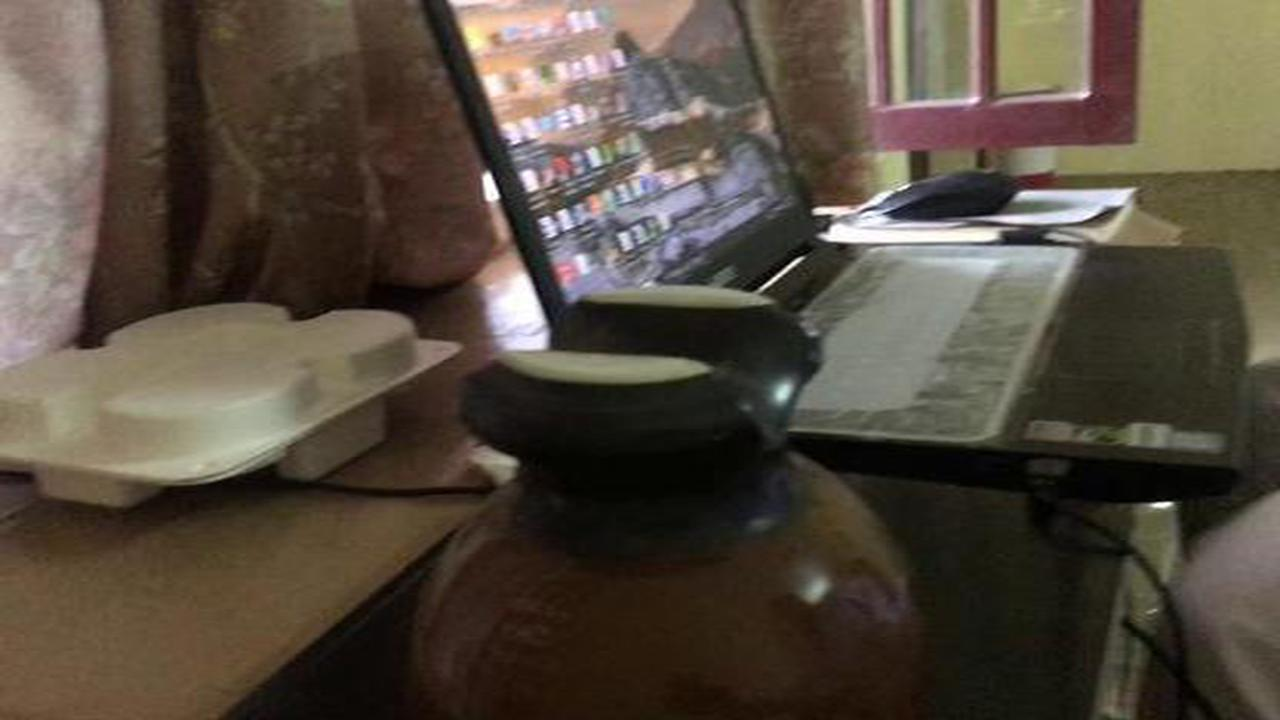insulator_pin: (379, 274, 964, 720)
